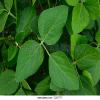Soyabean leaf: (37, 5, 68, 46), (15, 39, 43, 83), (48, 51, 79, 90)
